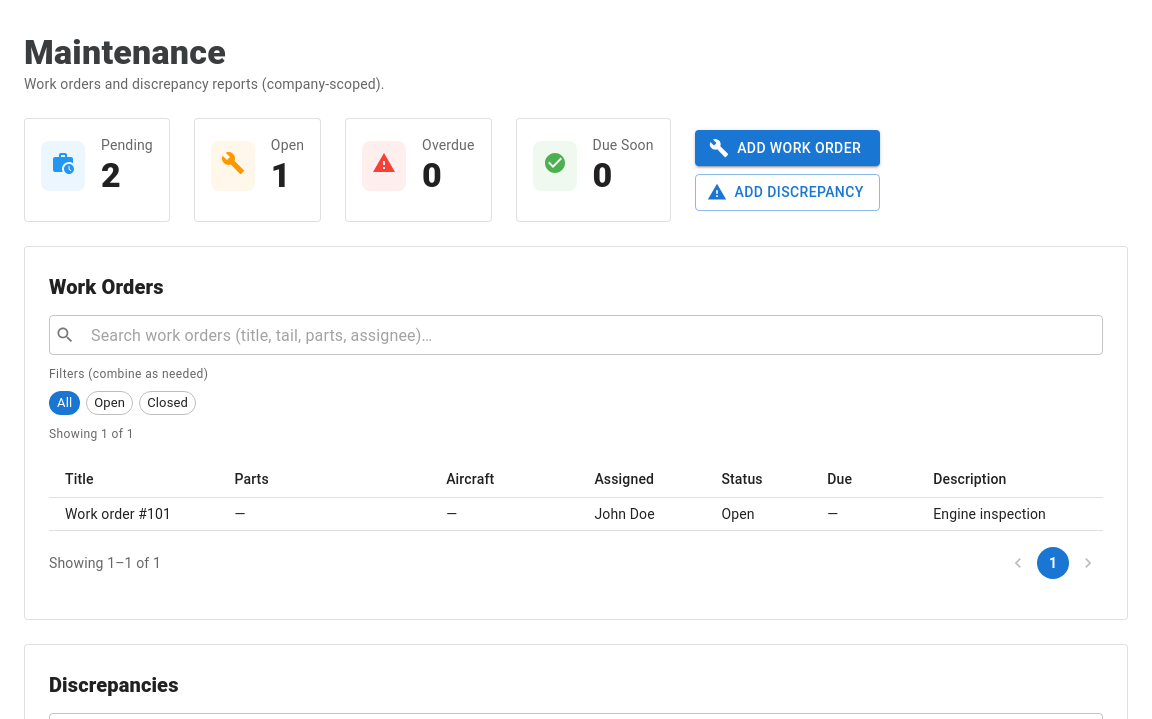
Test: Maintenance page › opens add work order form when button is clicked
Expected: the dialog "create work order" is not shown
What coordinates should you click on to do the following:
click the button "Add Work Order"
I would click on:
 (787, 148)
Its box is [695,130,880,166].
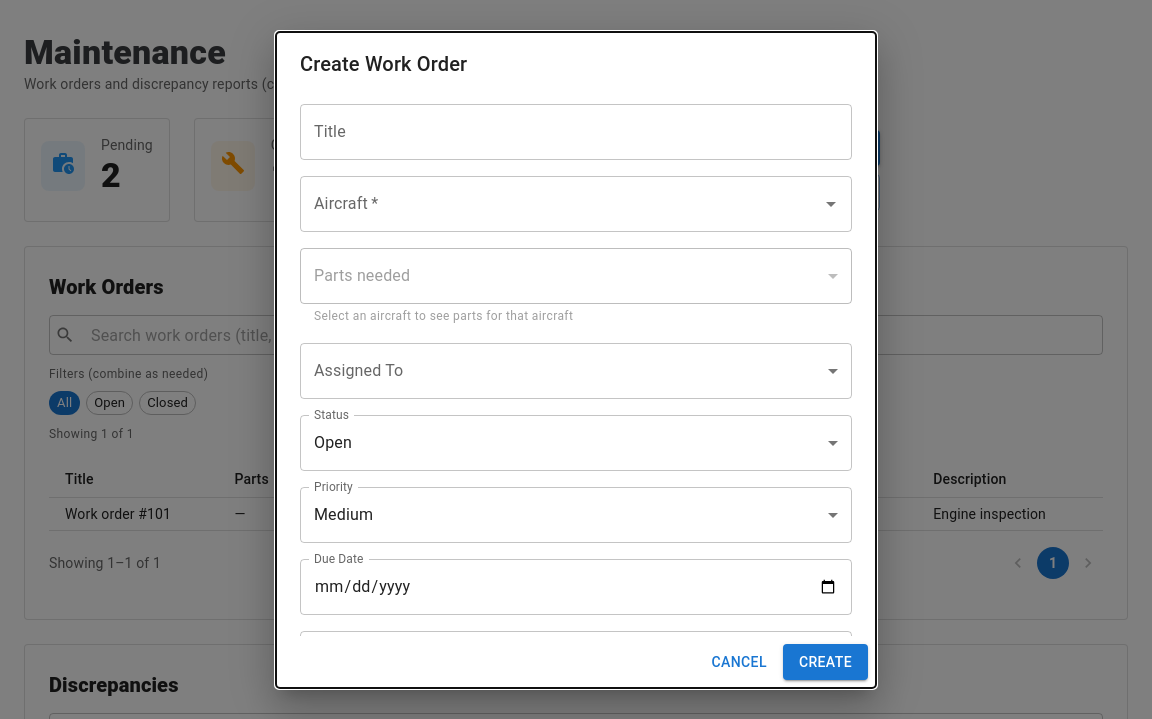
Now the button "Cancel" is shown, box [703,644,775,680]
